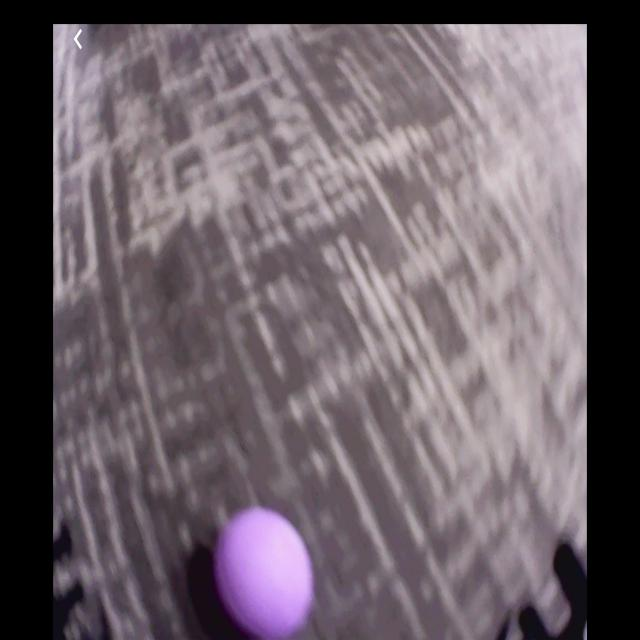ball: (217, 502, 314, 639)
